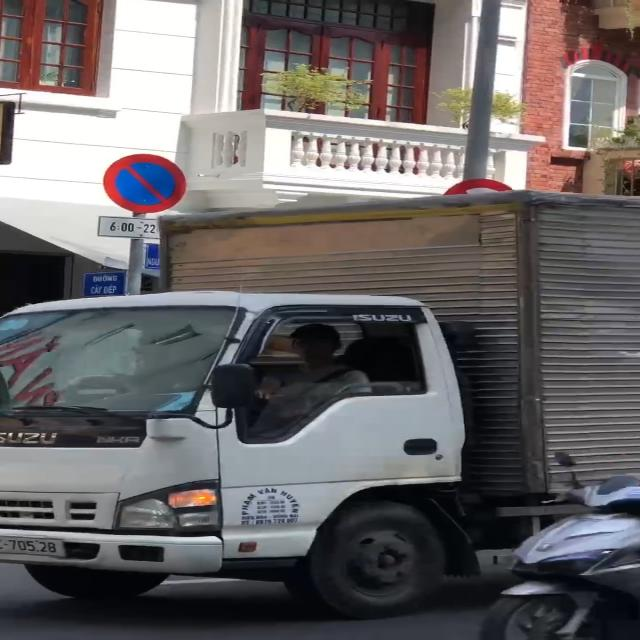Bien bao cam do xe: (97, 148, 192, 216)
